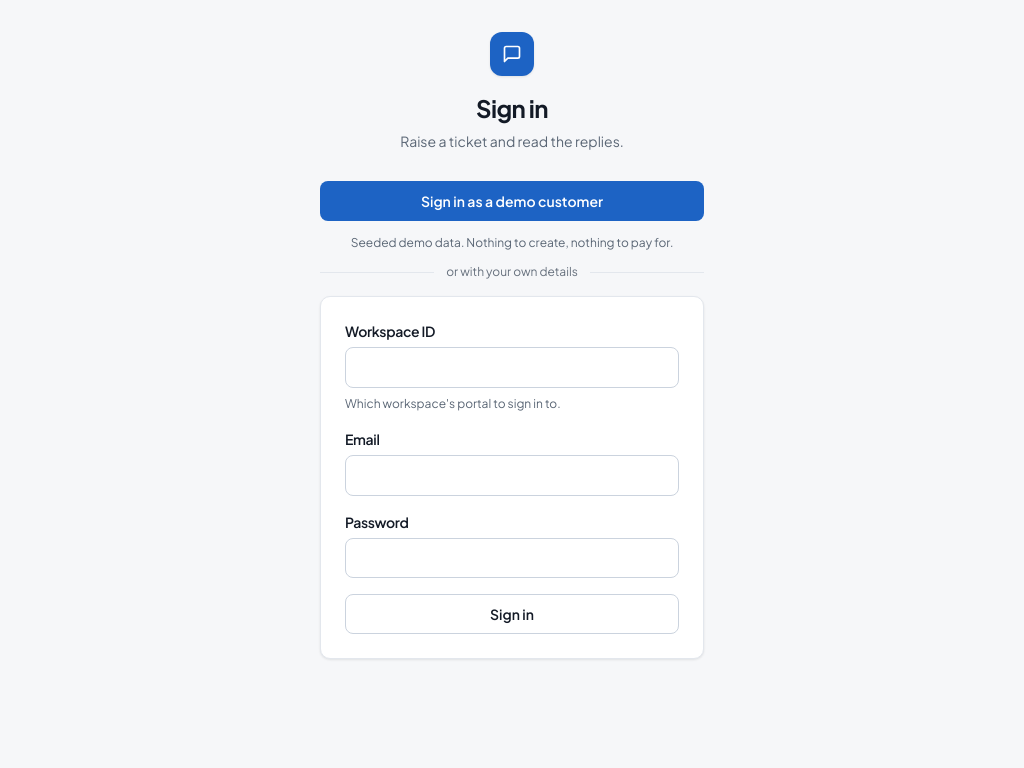
the demo account › signs in as the seeded Contact in one press
This screenshot has width=1024, height=768.
Click the button "Sign in as a demo customer" at (512, 201), box [320,181,704,221]
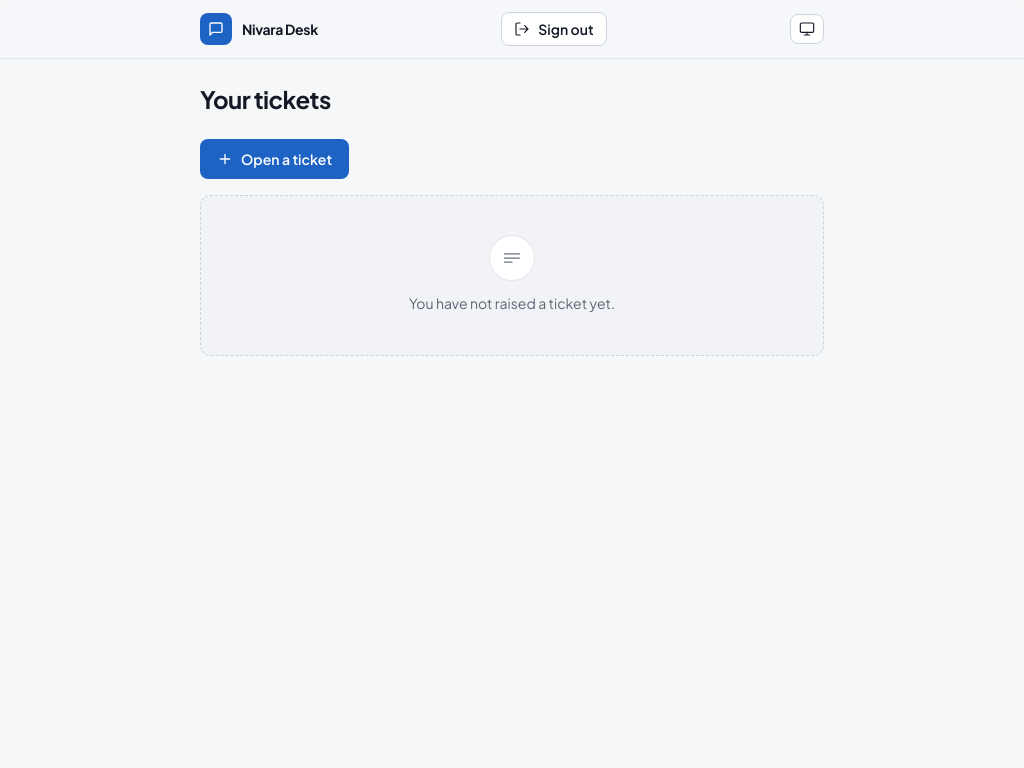
Expected: the heading "Your tickets" is shown, [200,84,331,114]
